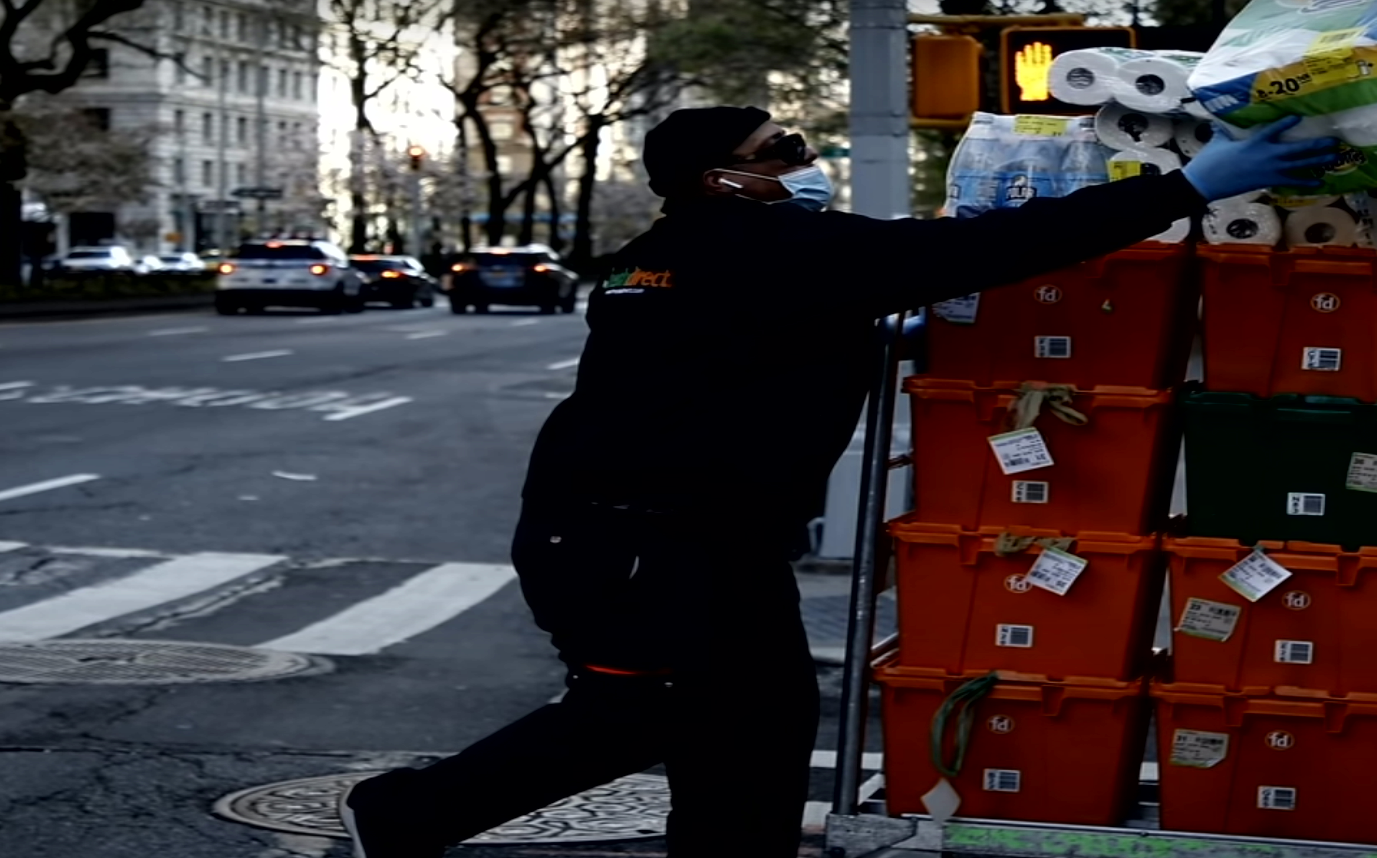mask_weared_incorrect: (646, 104, 835, 217)
